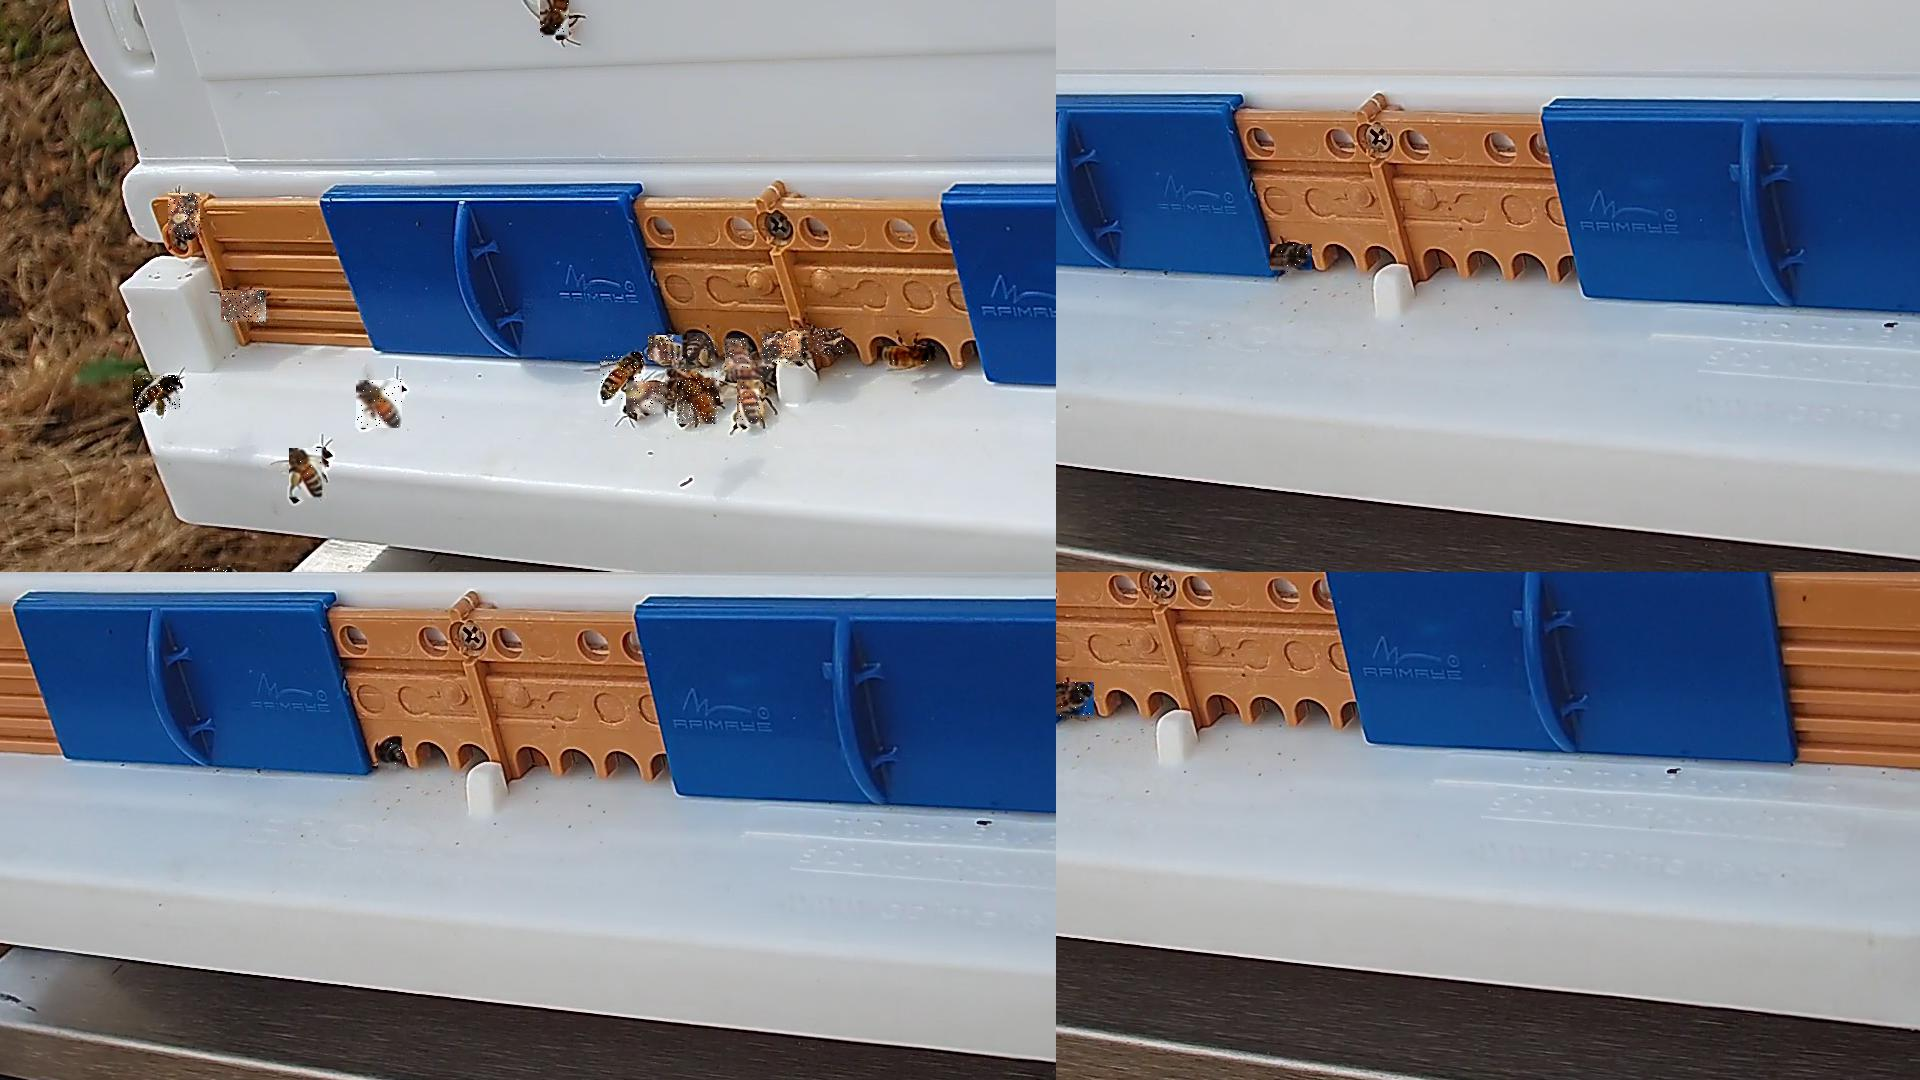bee: (356, 380, 404, 429), (678, 378, 720, 426), (665, 369, 720, 400), (789, 328, 847, 356), (222, 290, 268, 323), (1056, 682, 1096, 720), (626, 382, 667, 415), (764, 334, 806, 365), (1270, 245, 1313, 274), (737, 381, 764, 429), (541, 0, 571, 40), (877, 347, 936, 365), (727, 360, 773, 381), (378, 736, 404, 770), (725, 339, 752, 369)
pollenbee: (600, 352, 644, 405), (290, 448, 327, 502), (133, 376, 181, 413), (167, 194, 200, 237), (649, 335, 687, 361), (688, 334, 719, 365)
